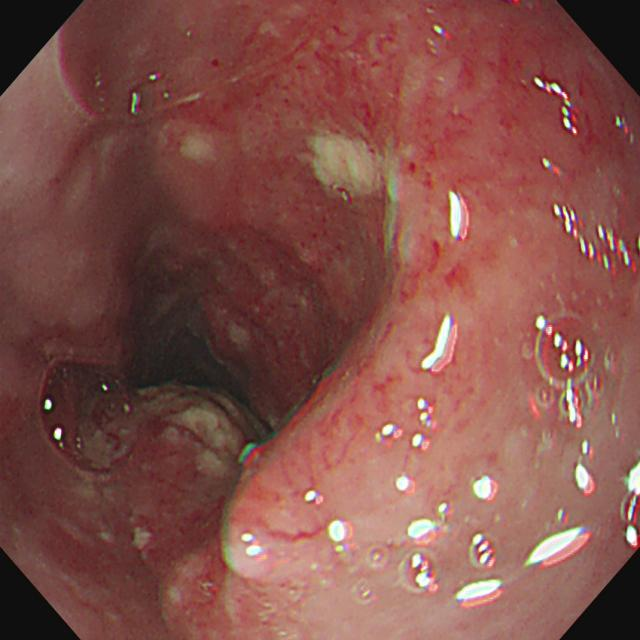A: (202, 211, 341, 360), (317, 13, 410, 135)
B: (133, 371, 266, 493)
J: (307, 132, 388, 204)
T: (37, 351, 140, 479)
U: (550, 200, 640, 276), (527, 526, 594, 570), (533, 77, 581, 138), (421, 312, 462, 377), (620, 461, 640, 550), (406, 501, 451, 540), (409, 394, 437, 454), (457, 579, 505, 611), (573, 438, 598, 497), (446, 190, 472, 243), (469, 474, 501, 504), (563, 384, 583, 428), (426, 24, 451, 58), (326, 519, 356, 547), (373, 421, 405, 444), (240, 530, 264, 558), (392, 473, 419, 495), (303, 489, 328, 506)
